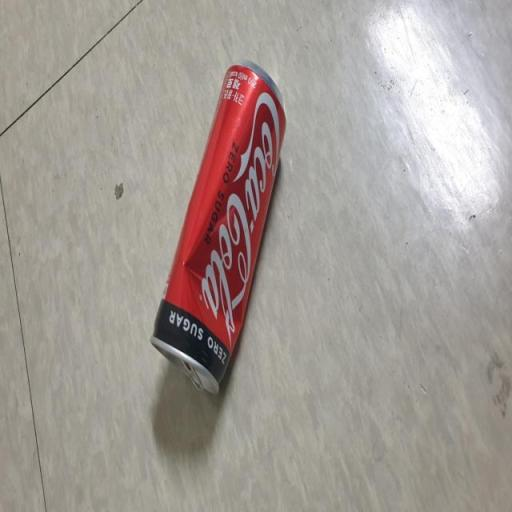metal: (132, 44, 304, 416)
